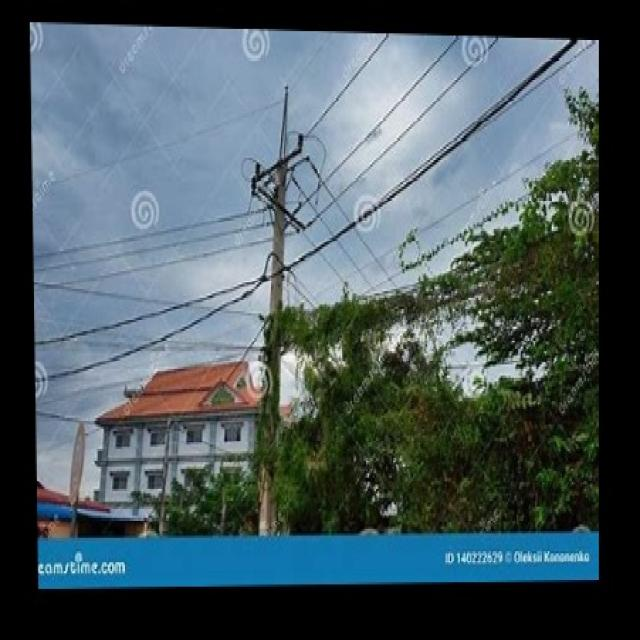critical vegetation: (266, 267, 590, 483)
